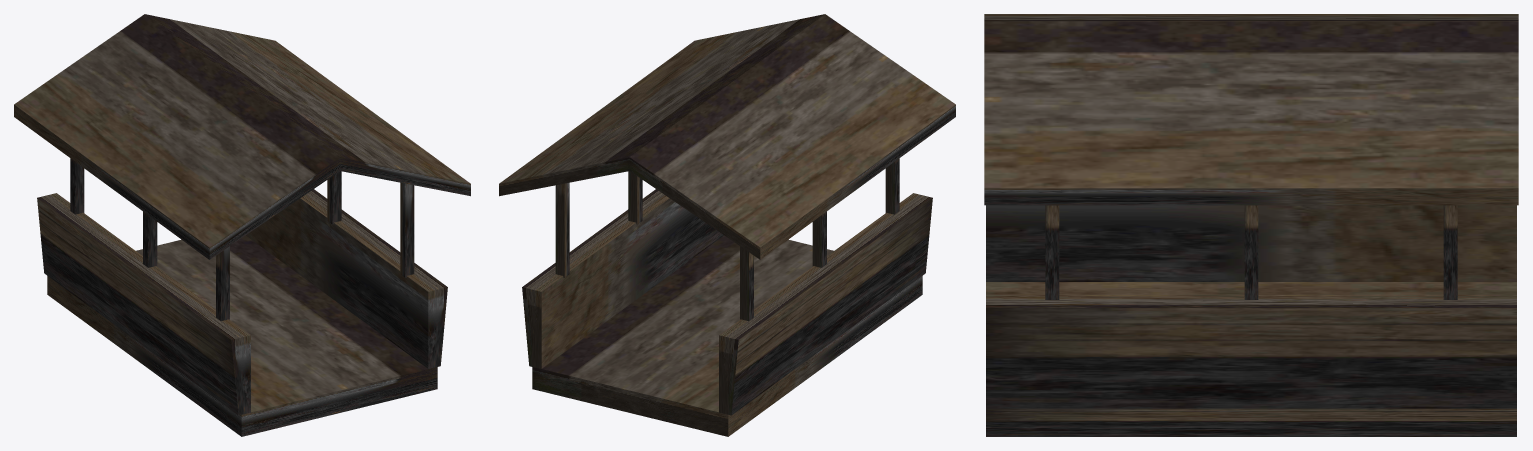
Rendered from Bridge_03.fbx.
The picture shows the model from 3 angles, left to right: view 1: azimuth 30°, elevation 25°; view 2: azimuth 150°, elevation 25°; view 3: azimuth 270°, elevation 25°; orthographic projection. The views are drawn at different scales.
Parts seen in each view (by area): view 1: Bridge_Roof_COL:Bridge_Roof_COL_0; view 2: Bridge_Roof_COL:Bridge_Roof_COL_0; view 3: Bridge_Roof_COL:Bridge_Roof_COL_0.
Part boxes in pixels (bbox=[...]): Bridge_Roof_COL:Bridge_Roof_COL_0: bbox=[14, 14, 470, 436]; Bridge_Roof_COL:Bridge_Roof_COL_0: bbox=[499, 14, 955, 436]; Bridge_Roof_COL:Bridge_Roof_COL_0: bbox=[984, 14, 1518, 436].
Bounding box in the file's own units: 31.08 × 29.13 × 40.25.
1 material, 1 textured.
